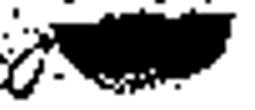Basket: (3, 7, 250, 103)
